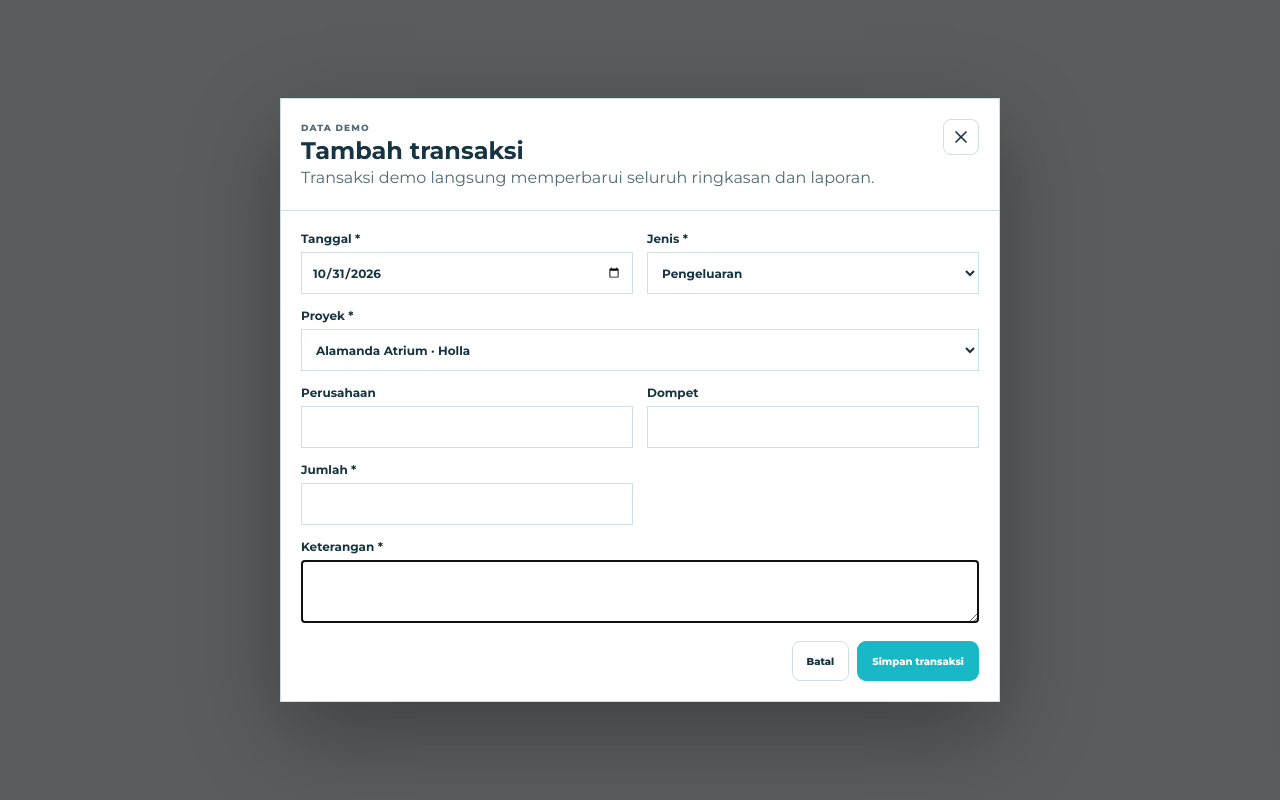
Test: TransactionForm project lock › rejects a missing locked project visibly
Type "1" into the number field labelled "Jumlah *" at coordinates (467, 504), box [301,483,633,525]
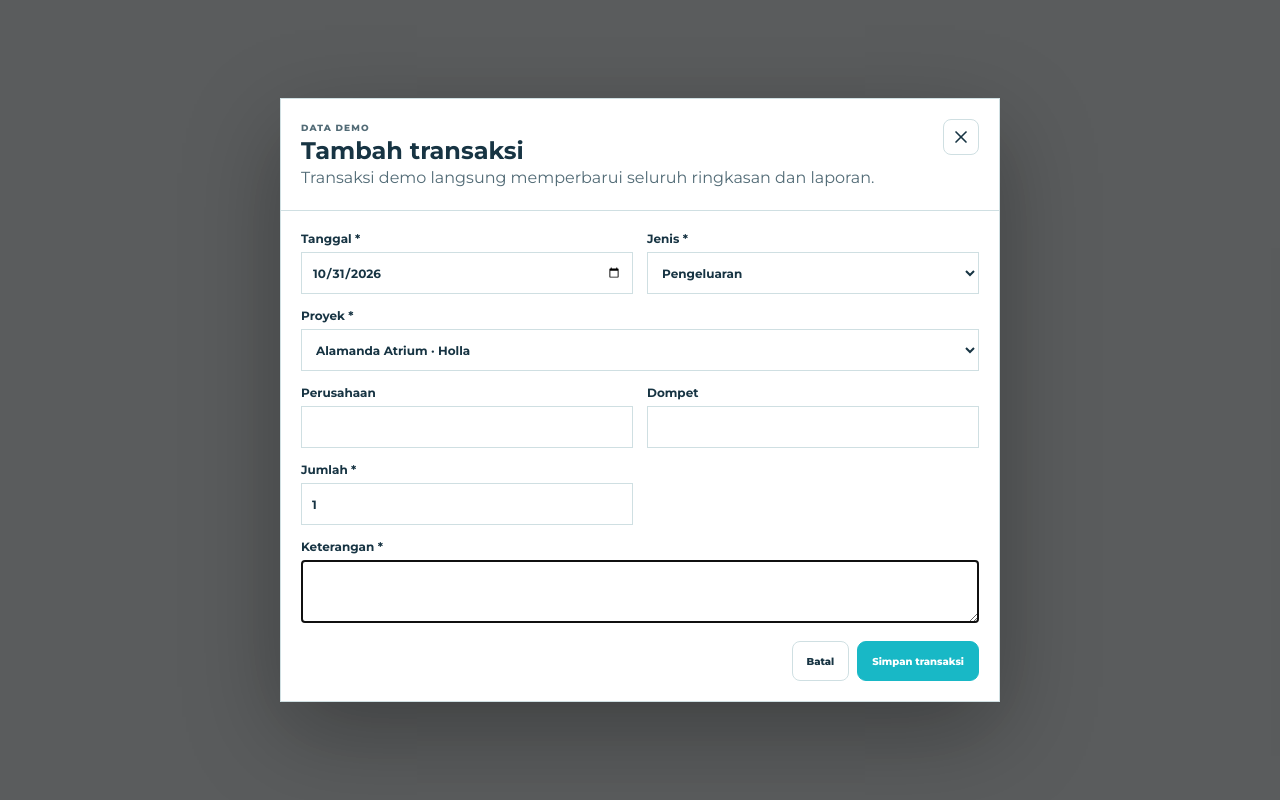
Type "Tidak boleh" into the text box labelled "Keterangan *" at coordinates (640, 592), box [301,560,979,623]
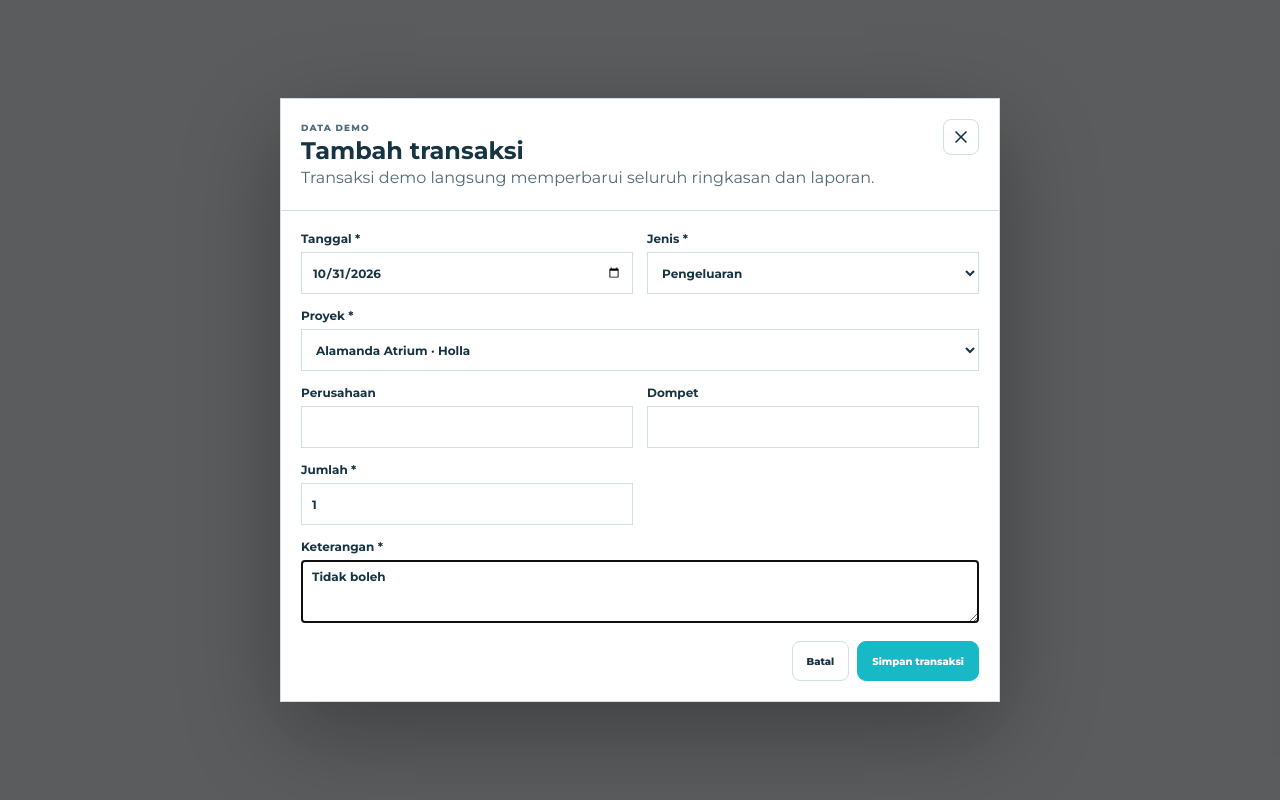
Click the button "Simpan transaksi" at coordinates (918, 661), box [857,641,979,681]
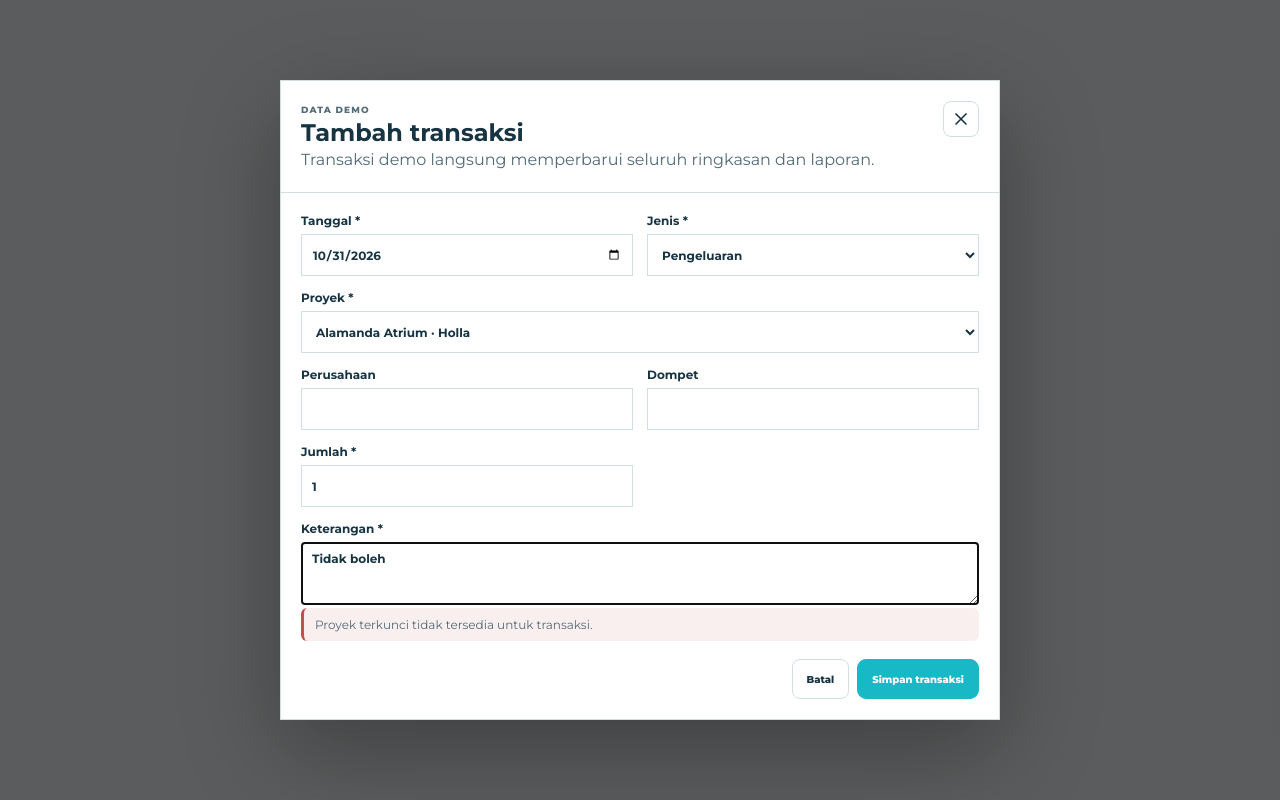
Expected: the message shows "Proyek terkunci tidak tersedia", [315,617,592,632]
